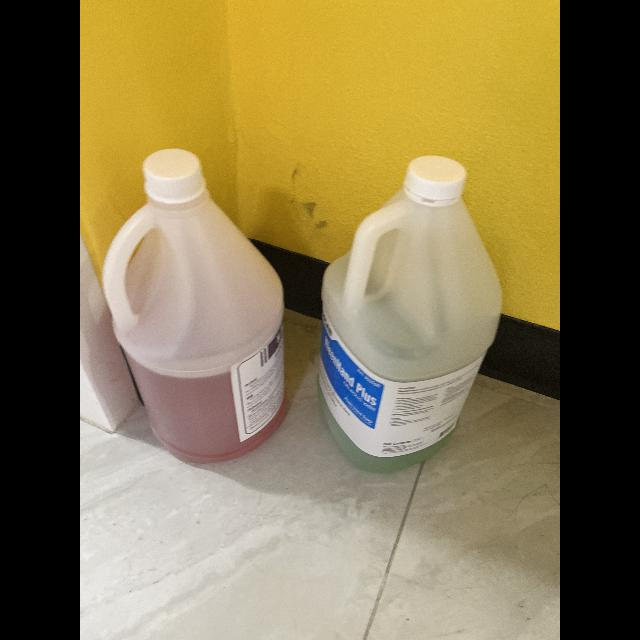chemical_plastic_gallon: (101, 146, 301, 466), (317, 149, 505, 477)
